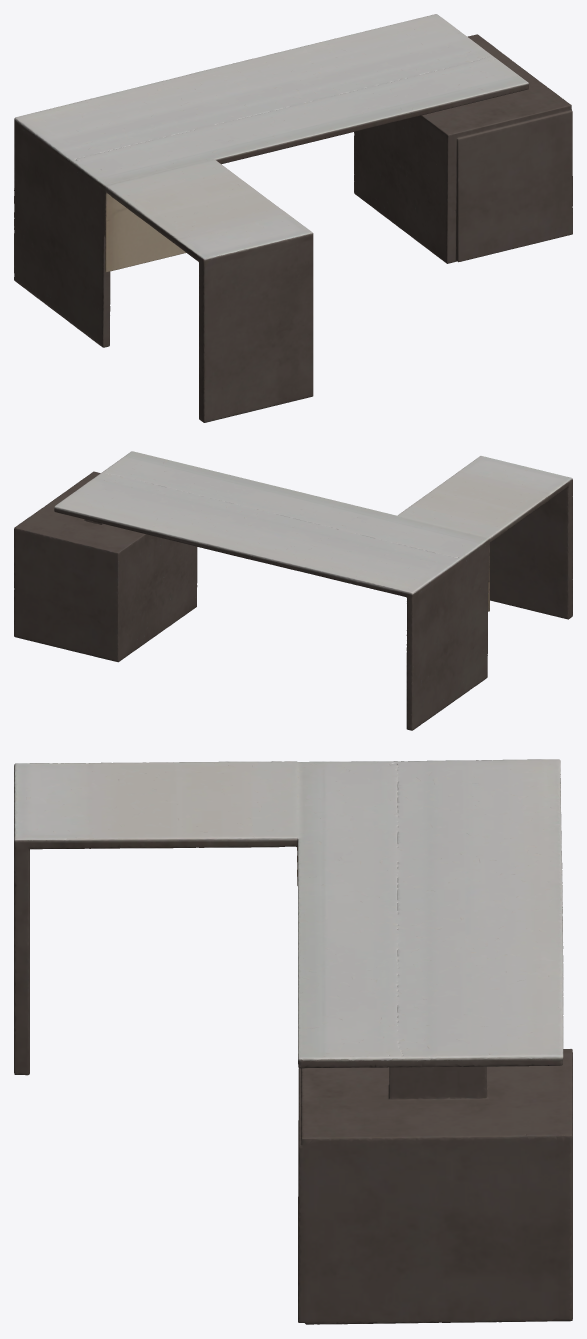
Rendered from 02_Contemporary L-shaped Executive Desk with Concrete-Effect Base and White Lacquered Top.glb.
The picture shows the model from 3 angles, top to bottom: view 1: azimuth 30°, elevation 25°; view 2: azimuth 150°, elevation 25°; view 3: azimuth 270°, elevation 25°; orthographic projection. The views are drawn at different scales.
Parts seen in each view (by area): view 1: world; view 2: world; view 3: world.
Boxes of the visible parts, x1,y1,x2,y2 form: world: (14,14,572,422); world: (14,451,572,730); world: (14,759,572,1324).
Bounding box in the file's own units: 1 × 0.3418 × 0.7207.
1 material, 1 textured.
